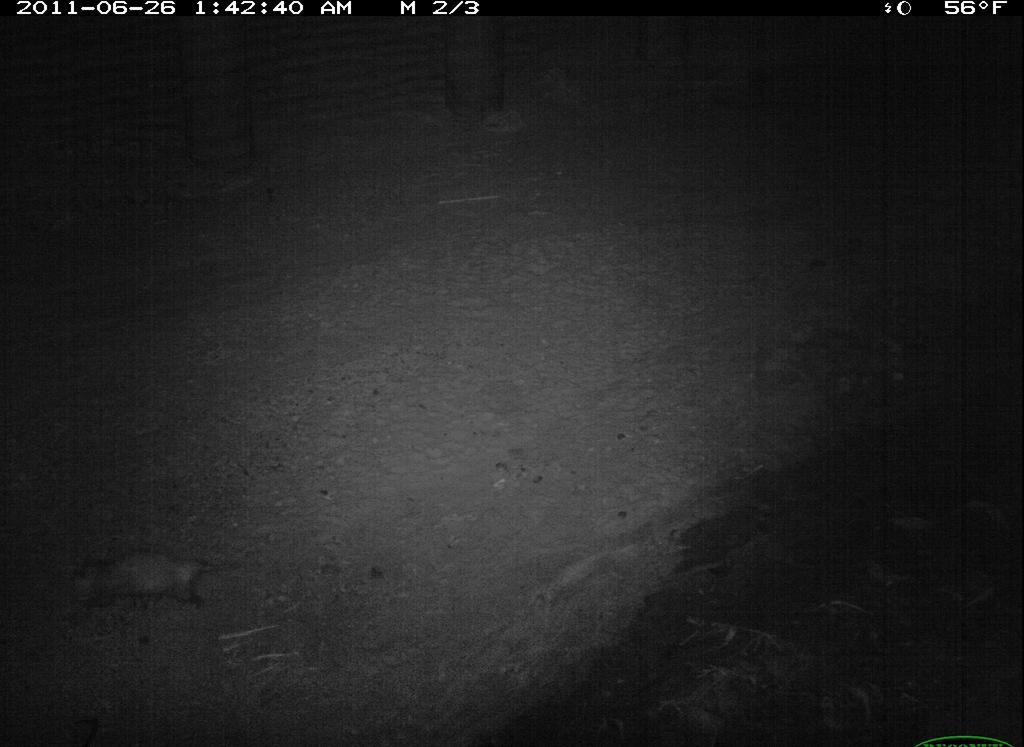opossum: (58, 536, 248, 628)
